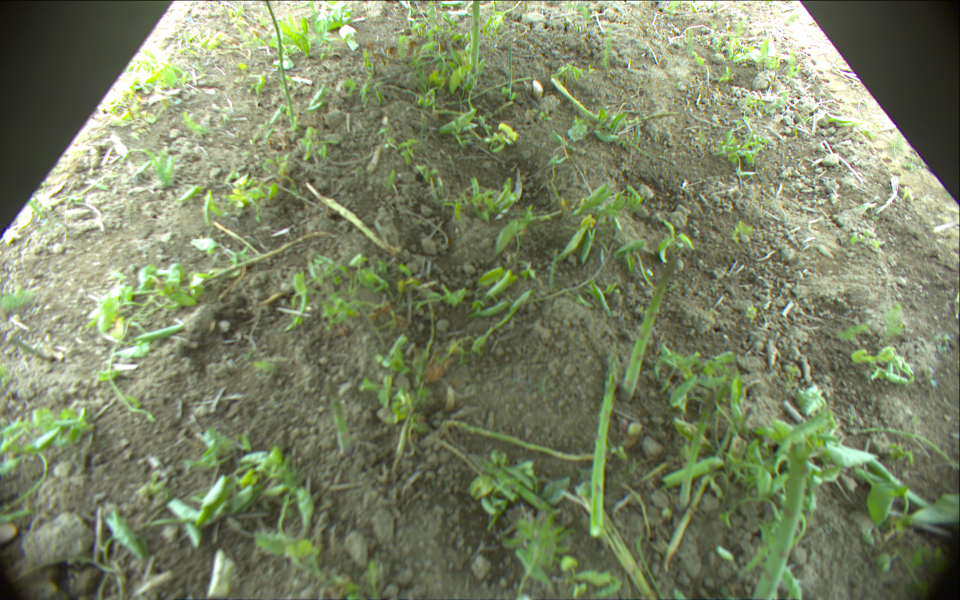aspa: (749, 435, 807, 600), (625, 244, 679, 405), (305, 177, 396, 255), (446, 419, 594, 463), (589, 364, 615, 540), (263, 1, 295, 121), (680, 407, 713, 506), (549, 78, 605, 122), (660, 458, 725, 489), (328, 380, 352, 457), (466, 1, 483, 74), (507, 43, 513, 98)
